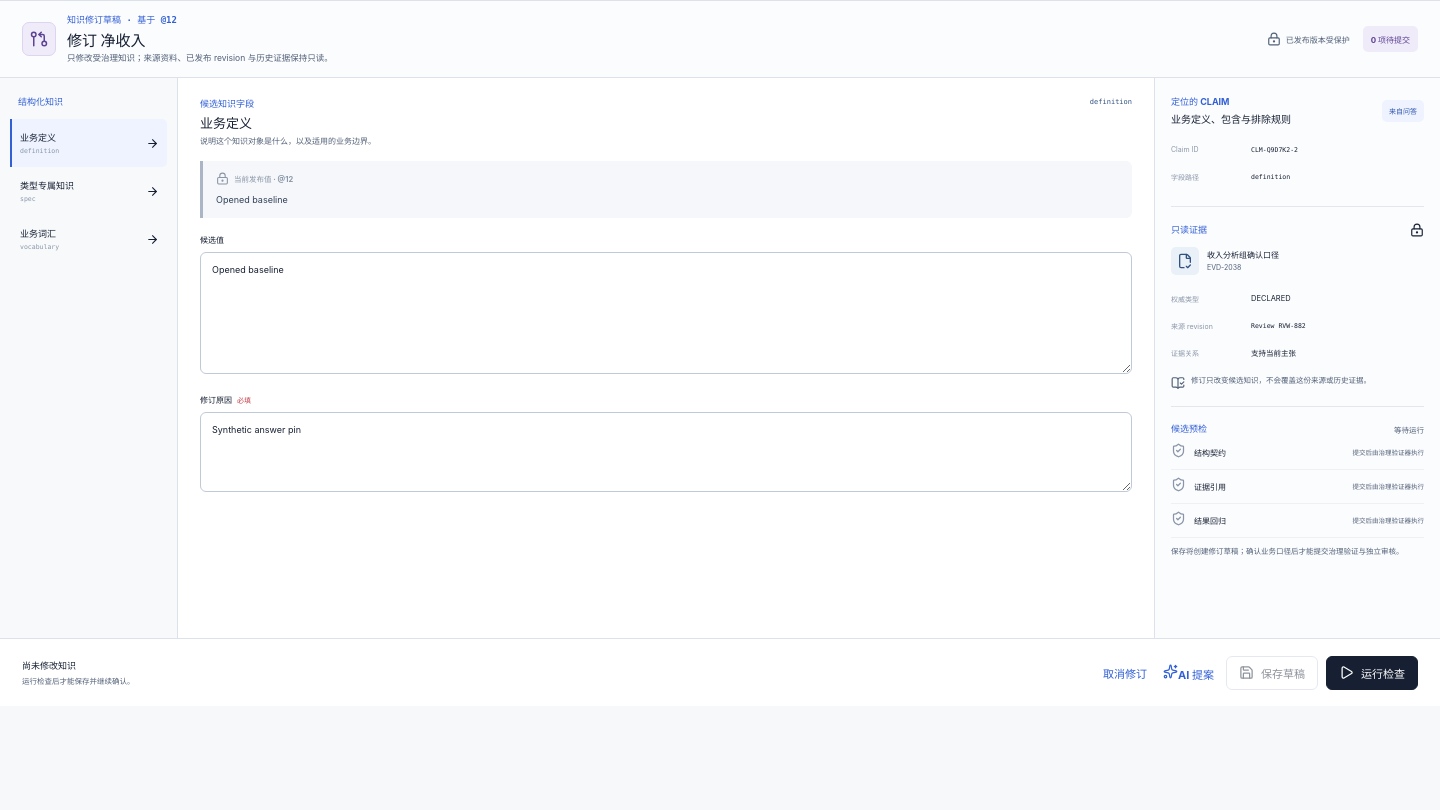
Scenario: preserves editable unsent content on a deterministic validation error
The image size is (1440, 810).
Type " corrected" into the text box named "业务定义候选值" at (666, 313), box [200,252,1132,374]
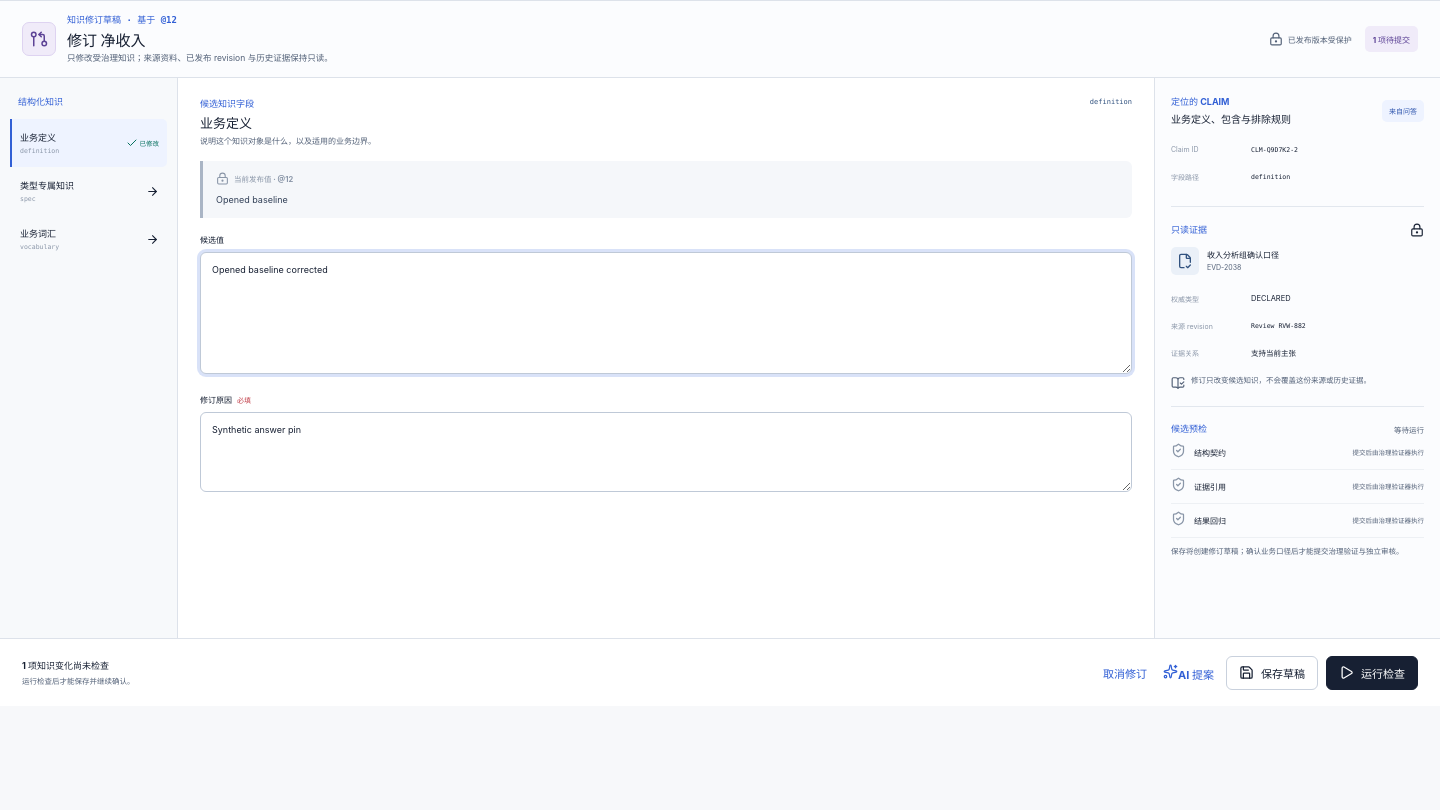
Click the button "运行检查" at (1372, 673), box [1326,656,1418,690]
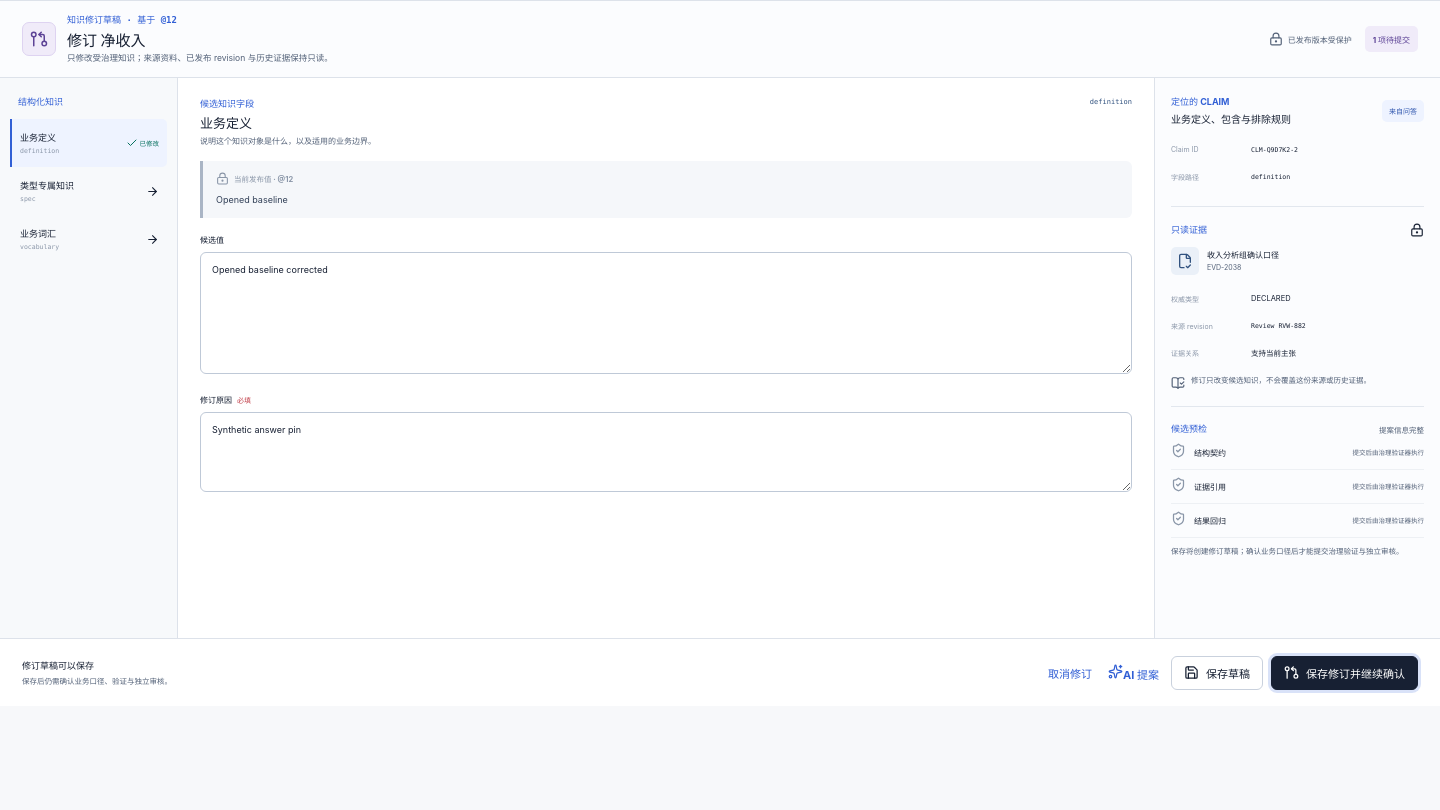
Click the button "保存修订并继续确认" at (1344, 673), box [1271,656,1418,690]
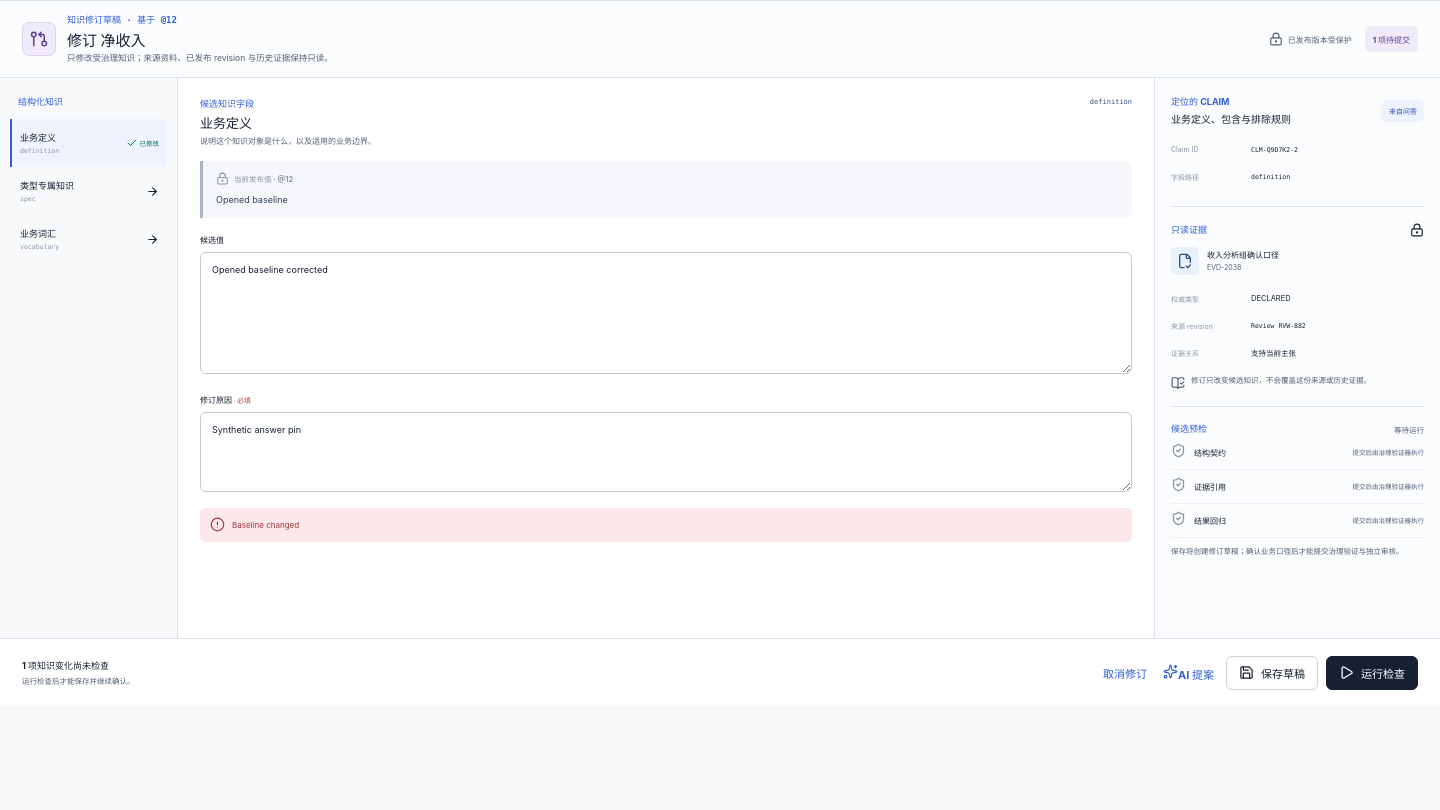
Expected: the text box named "业务定义候选值" is enabled, [200,252,1132,374]
Expected: the text box named "业务定义候选值" holds "Opened baseline corrected", [200,252,1132,374]
Expected: the text "Baseline changed" is shown, [200,508,1132,542]
